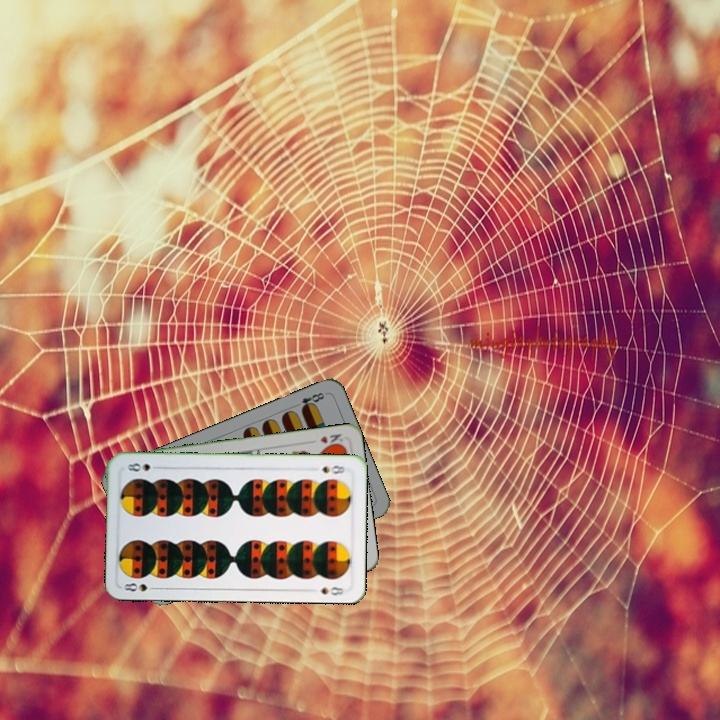E8: (290, 388, 327, 413)
HK: (316, 430, 345, 450)
S8: (120, 579, 160, 594), (318, 461, 347, 477)
